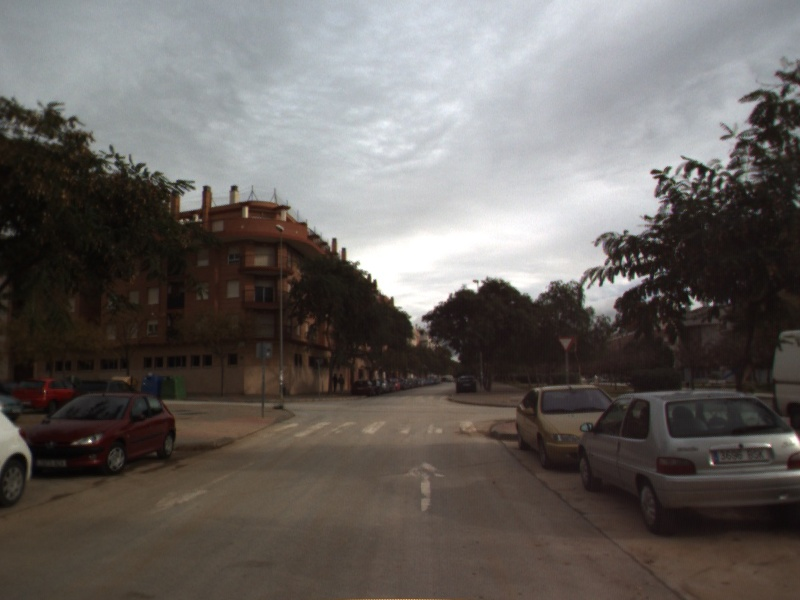STRAIGHT: (399, 458, 449, 514)
